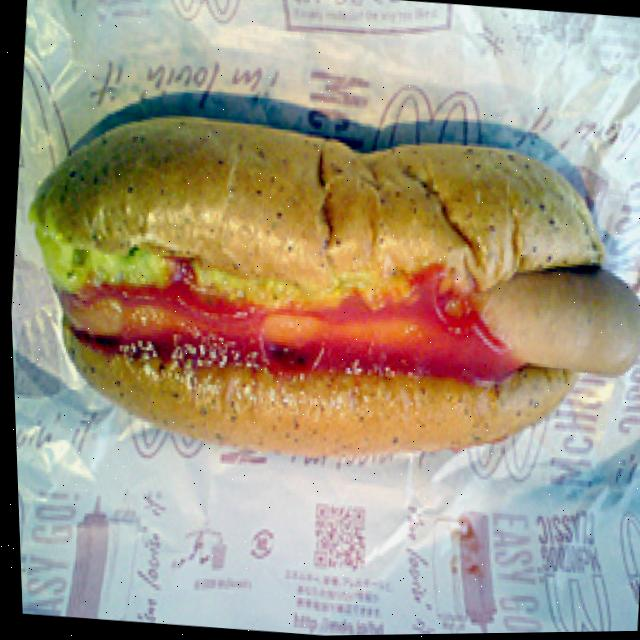汉堡快餐: (2, 52, 640, 517)
